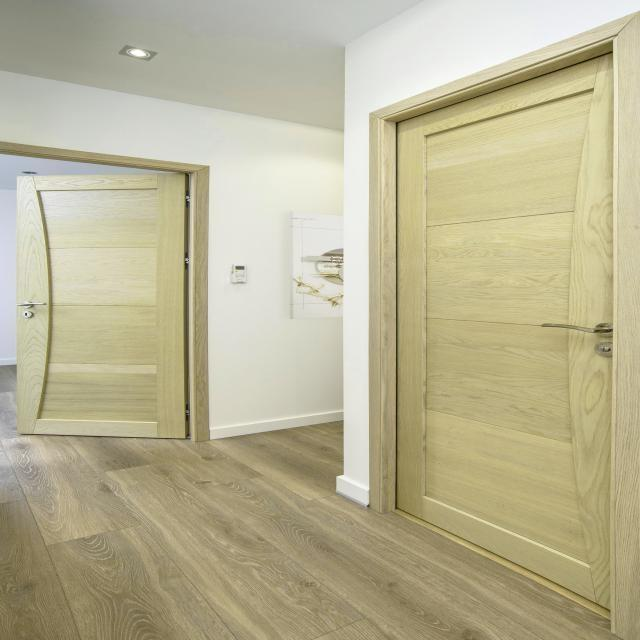door: (385, 34, 618, 618), (14, 170, 188, 439)
